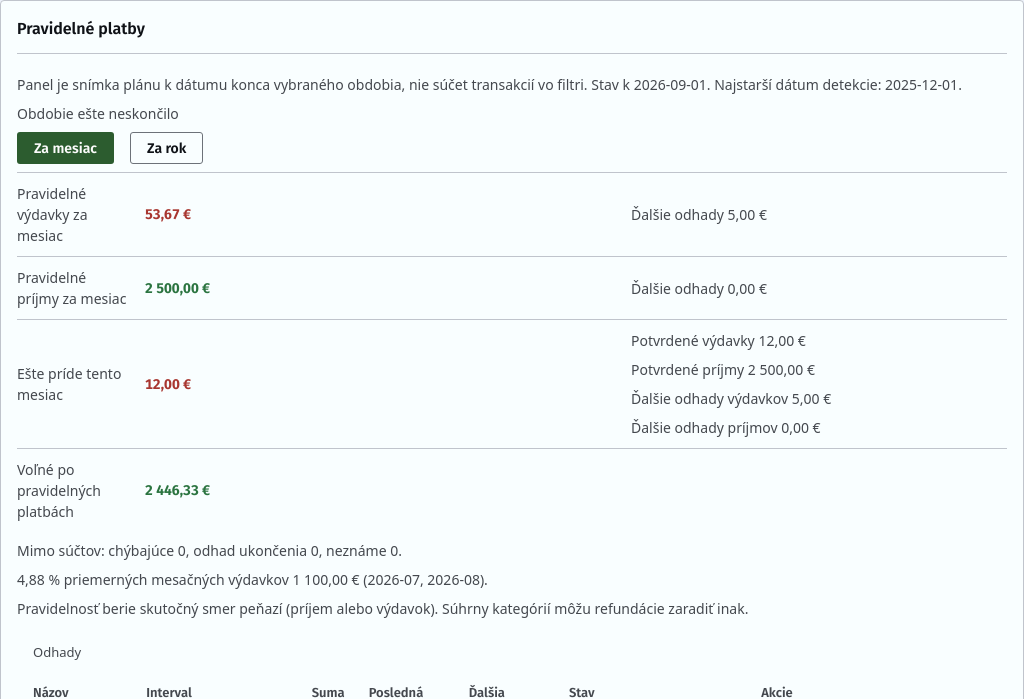
Test: RecurringPanel R14/R15 rendering and honest labels › leaves remaining 12,00 € in place after switching to the annual projection
Expected: the text "53,67 €" is shown, [145,206,191,223]
Click the button "Za rok" at (167, 148), box [130,132,203,164]
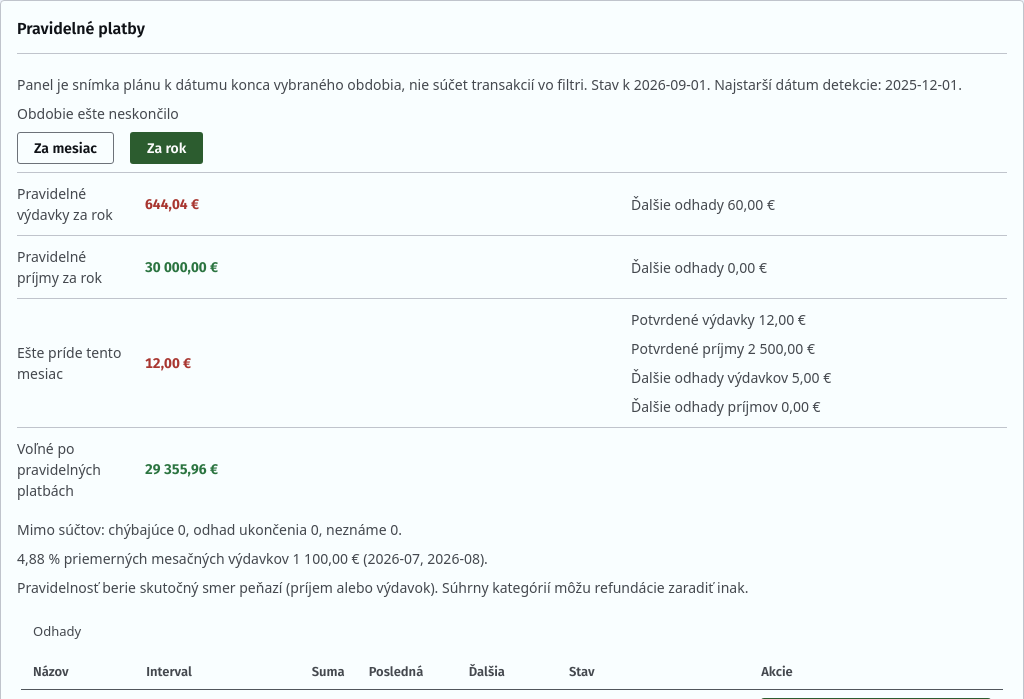
Expected: the text "Potvrdené výdavky 12,00 €" is shown, [631,310,806,329]
Now the text "644,04 €" is shown, box [145,196,199,212]
